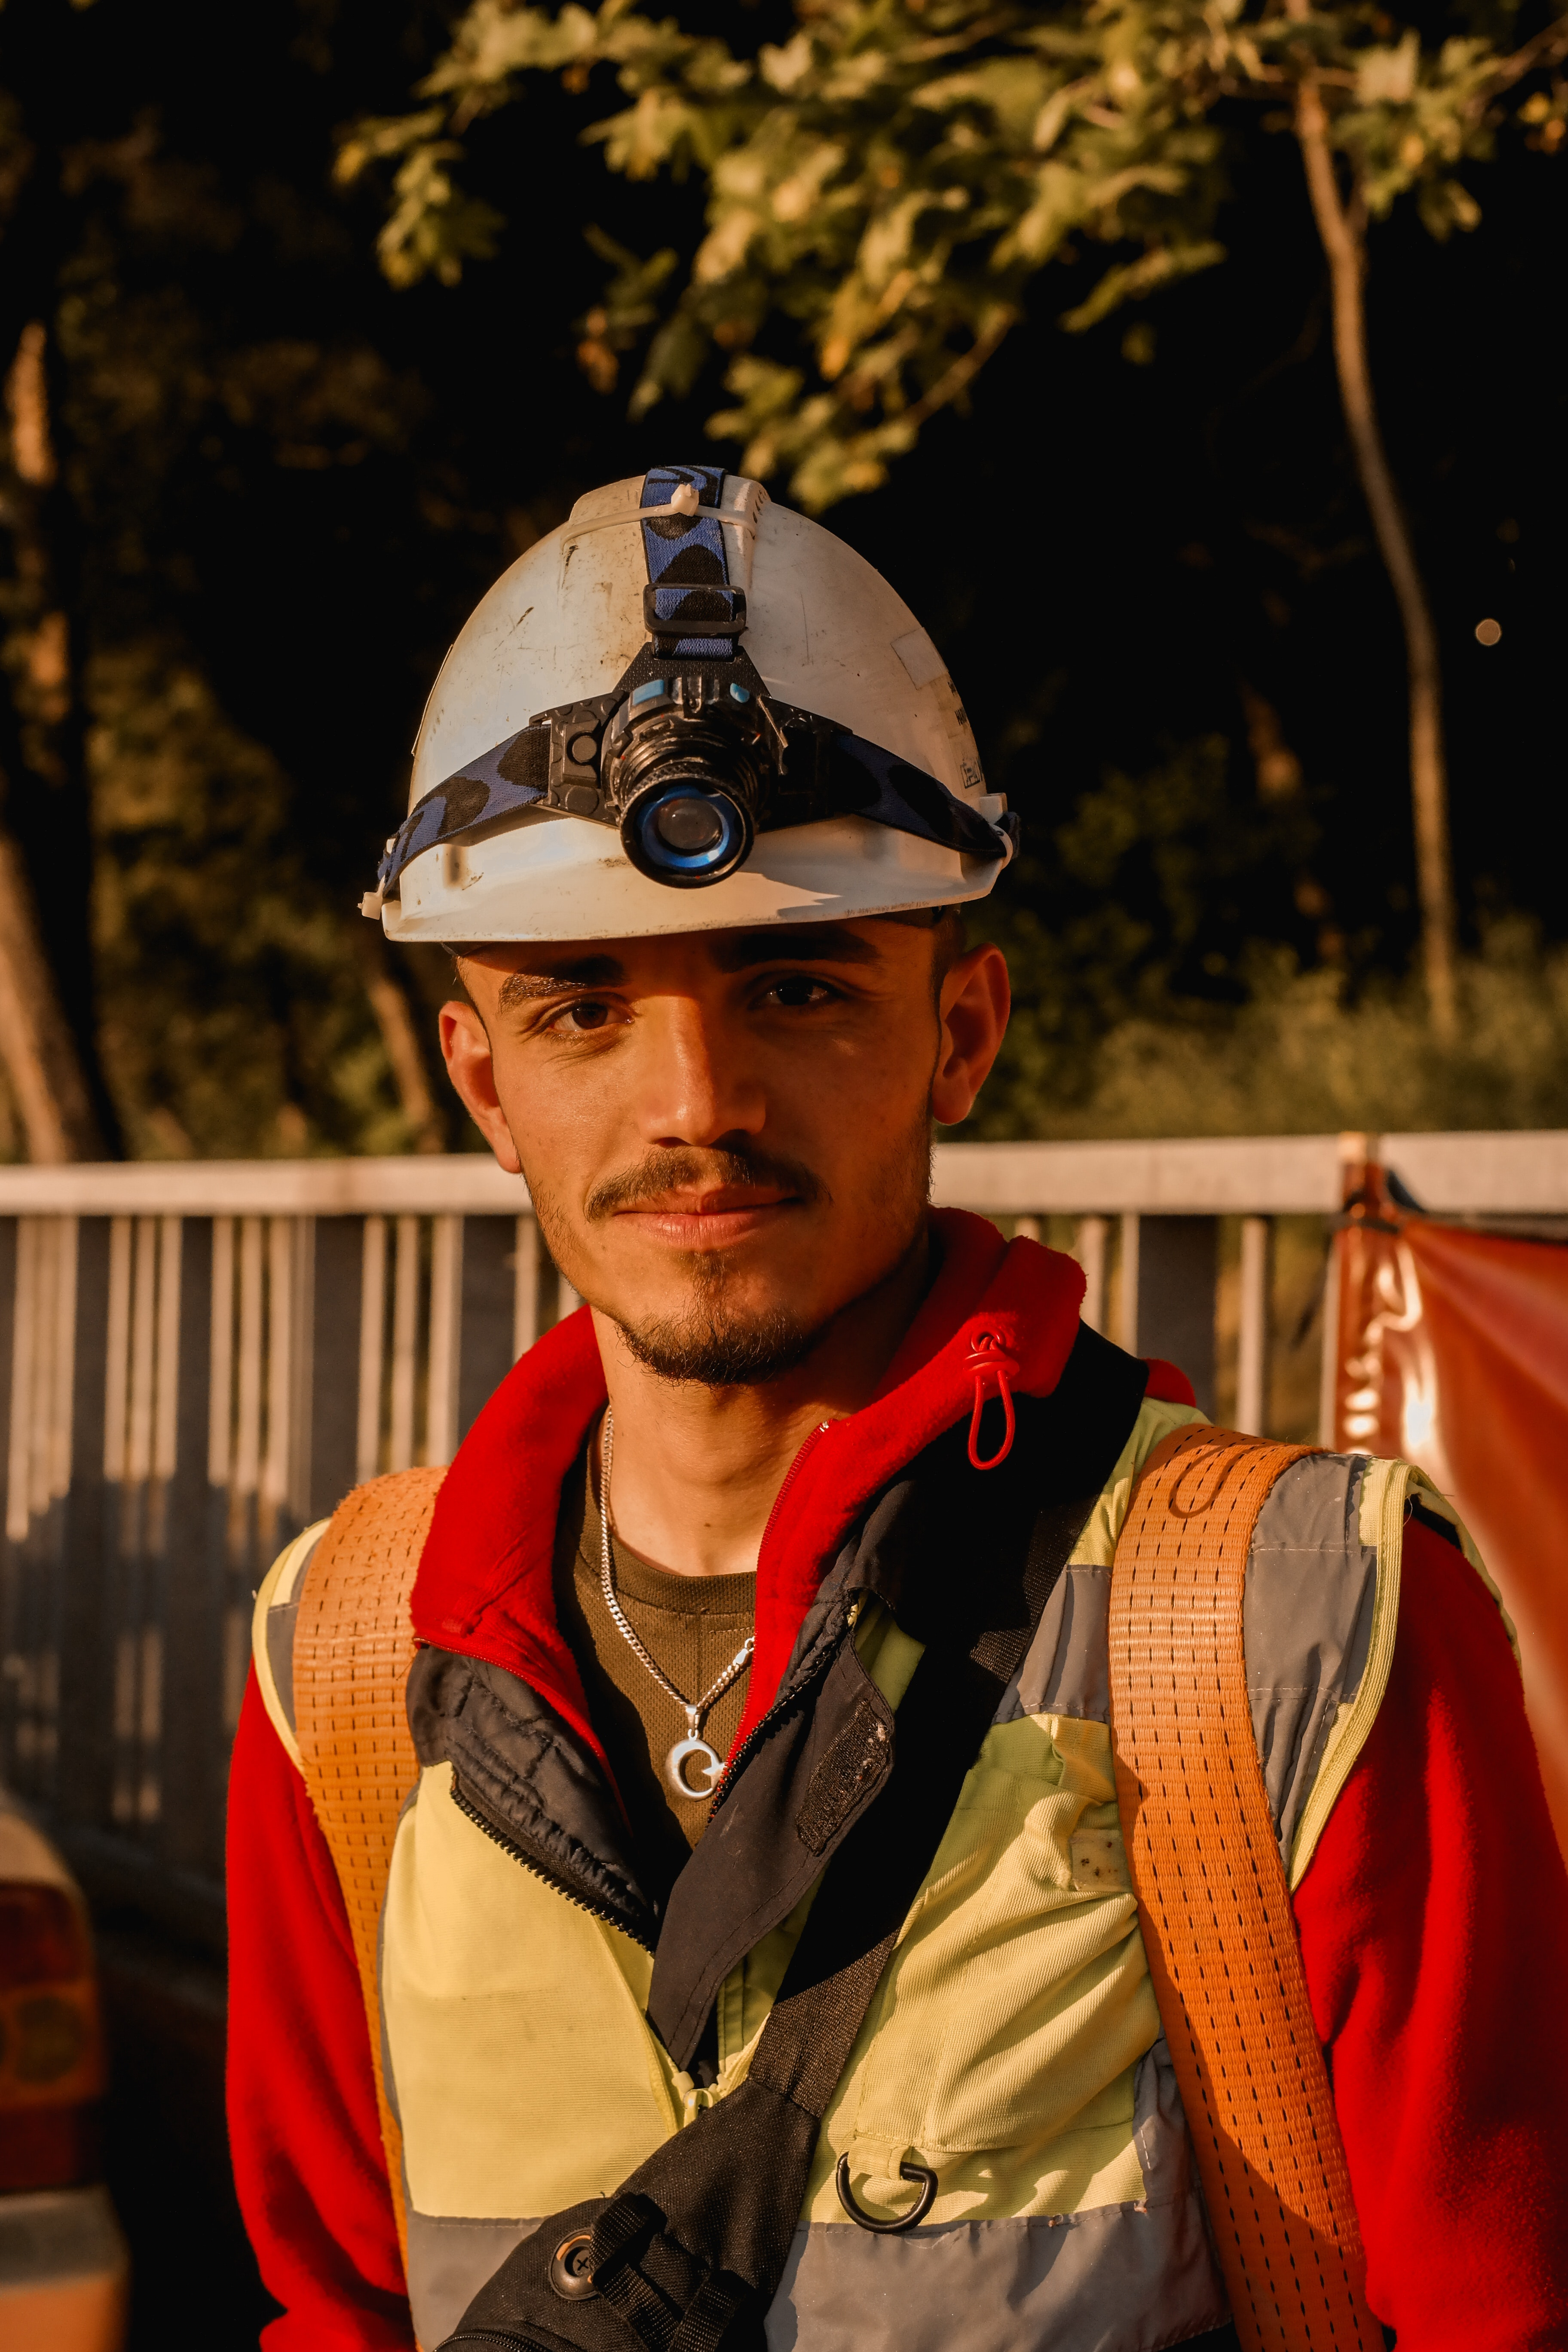Helmet: (327, 430, 1101, 1421)
Reflective vest: (231, 1431, 1435, 2352)
